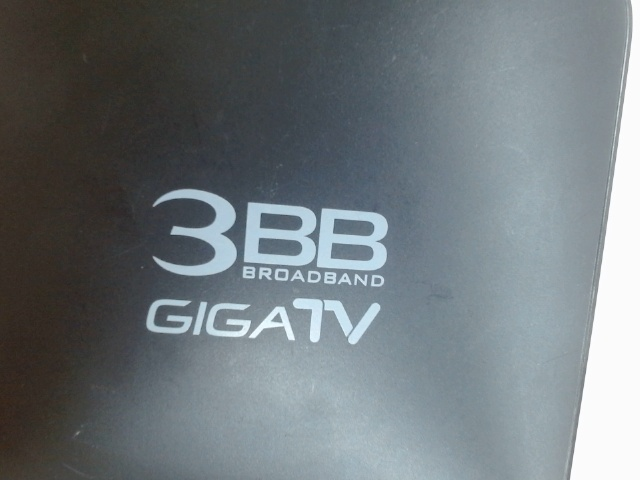AG_3BB: (123, 177, 400, 356)
